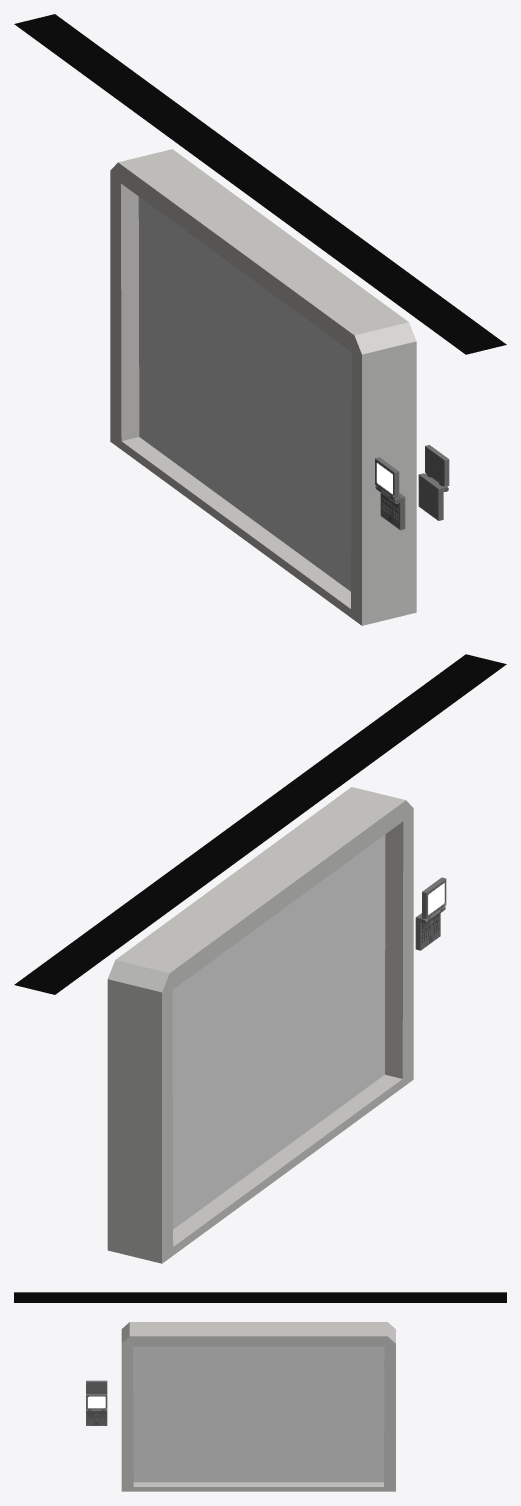
Rendered from Prfb_LabDoor.fbx.
The picture shows the model from 3 angles, top to bottom: view 1: azimuth 30°, elevation 25°; view 2: azimuth 150°, elevation 25°; view 3: azimuth 270°, elevation 25°; orthographic projection. The views are drawn at different scales.
Visible parts, largest first — view 1: LabDoor, BlackTop, Mat_Computer_01_01; view 2: LabDoor, BlackTop, Mat_Computer_01_01; view 3: LabDoor, BlackTop, Mat_Computer_01_01.
Boxes of the visible parts, left/top/right/bottom form: LabDoor: left=110, top=149, right=416, bottom=625; BlackTop: left=14, top=14, right=506, bottom=354; Mat_Computer_01_01: left=375, top=445, right=449, bottom=530; LabDoor: left=107, top=787, right=413, bottom=1263; BlackTop: left=14, top=654, right=506, bottom=994; Mat_Computer_01_01: left=415, top=877, right=446, bottom=950; LabDoor: left=121, top=1322, right=395, bottom=1491; BlackTop: left=14, top=1292, right=506, bottom=1302; Mat_Computer_01_01: left=86, top=1380, right=107, bottom=1425.
Size of the model in its own units: 0.5022 by 3 by 7.19.
3 materials, 3 textured.
